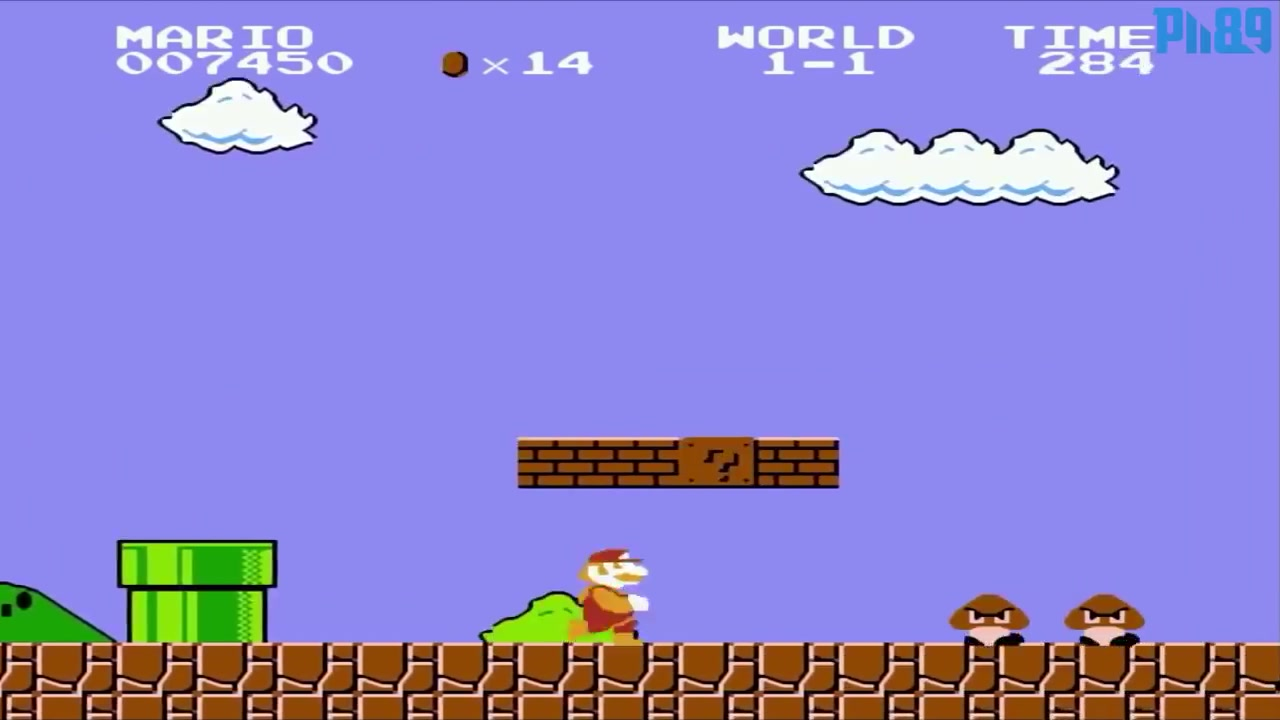mario: (567, 544, 656, 652)
